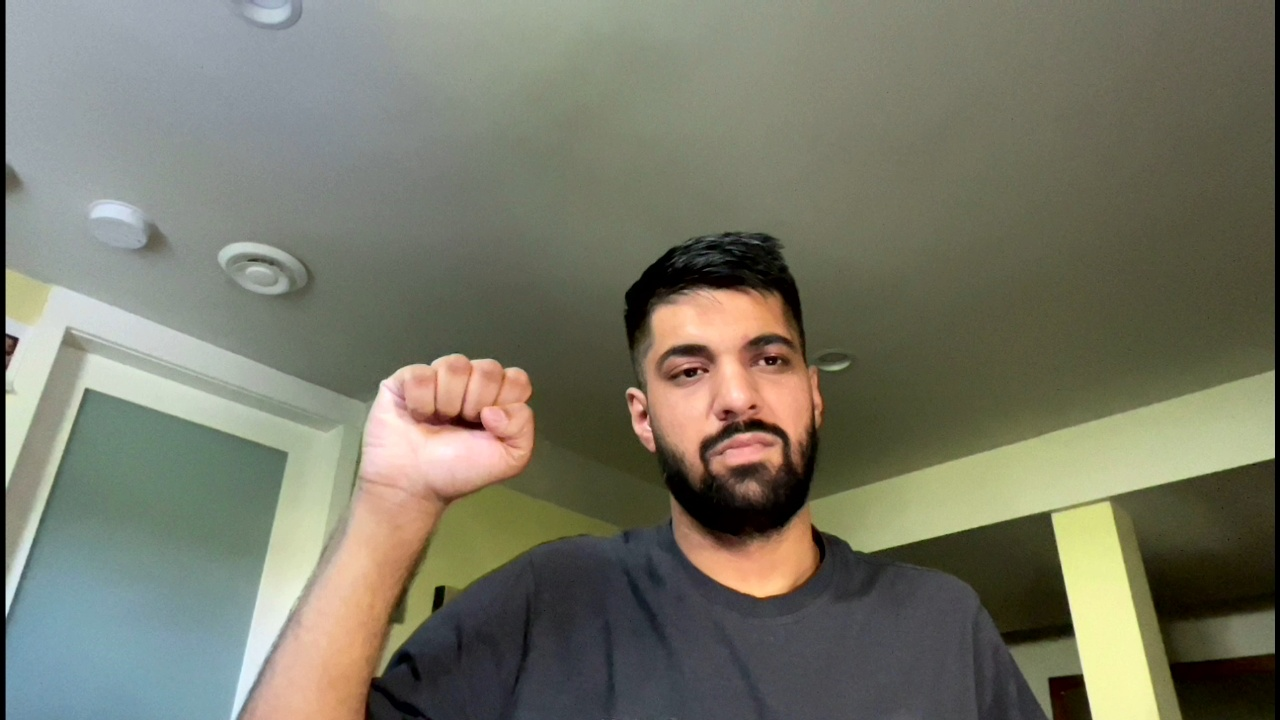No: (349, 345, 547, 494)
